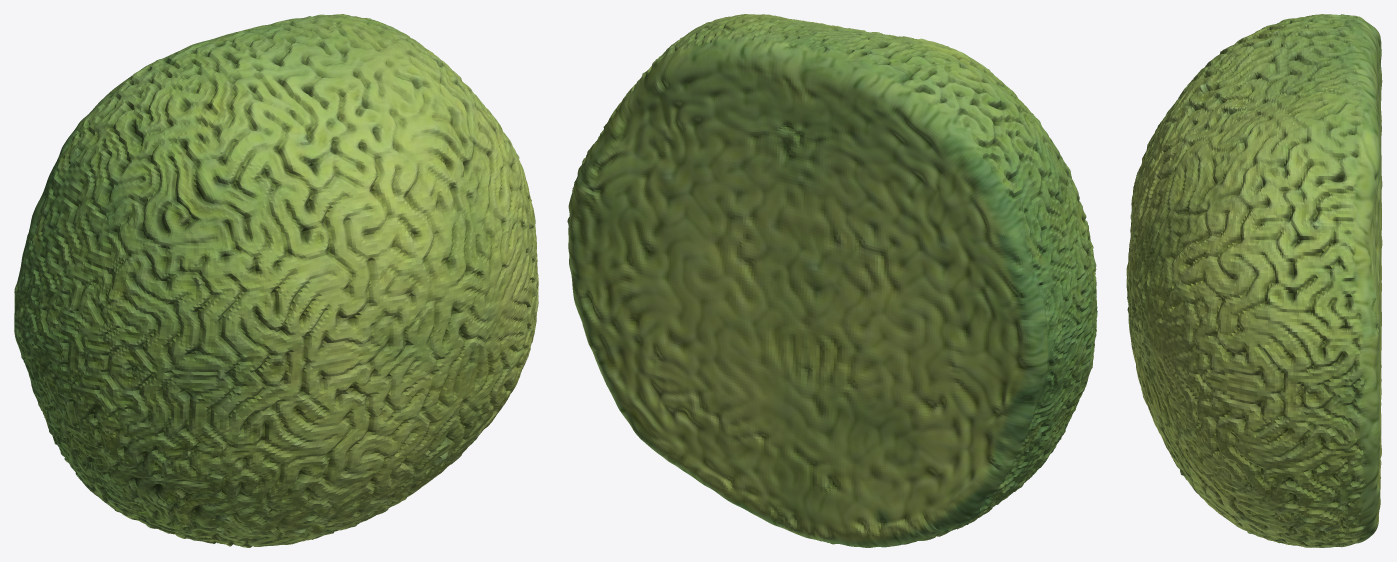
File: coral.draco.glb
3 renders of one model, left to right at view 1: azimuth 30°, elevation 25°; view 2: azimuth 150°, elevation 25°; view 3: azimuth 270°, elevation 25°, orthographic. The views are drawn at different scales.
Visible parts, largest first — view 1: 20941_Brain_Coral_v1; view 2: 20941_Brain_Coral_v1; view 3: 20941_Brain_Coral_v1.
Boxes of the visible parts, x1,y1,x2,y2 form: 20941_Brain_Coral_v1: (14,14,538,547); 20941_Brain_Coral_v1: (567,14,1097,547); 20941_Brain_Coral_v1: (1126,14,1382,547).
Size of the model in its own units: 19.55 by 18.86 by 9.31.
Materials: 1 (1 with a texture image).
